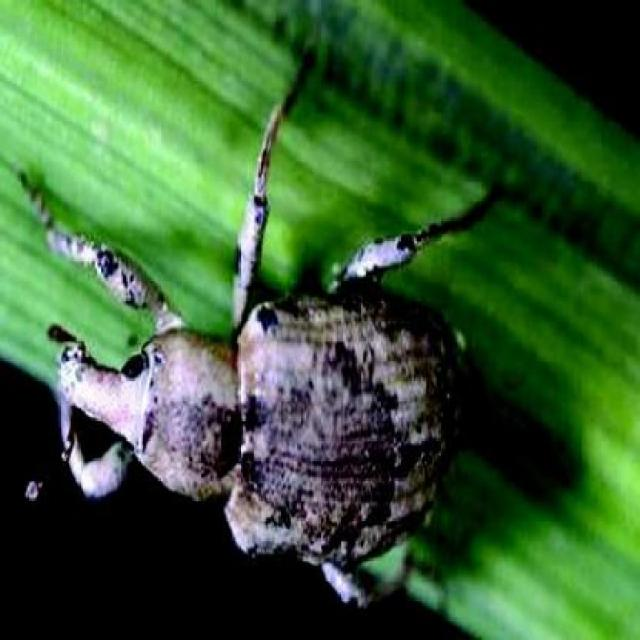rice-bug: (46, 162, 462, 600)
